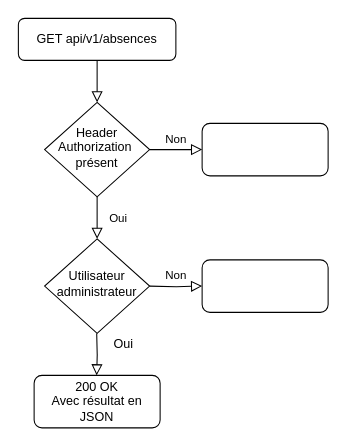
The diagram is 346 pixels wide and 446 high, and some of its shapes have lost their labels. The centre of each missing label's shape, as x and y in pixels:
"401 Unauthorized" belongs at pixel 264 149.
"403 Forbidden" belongs at pixel 264 285.
